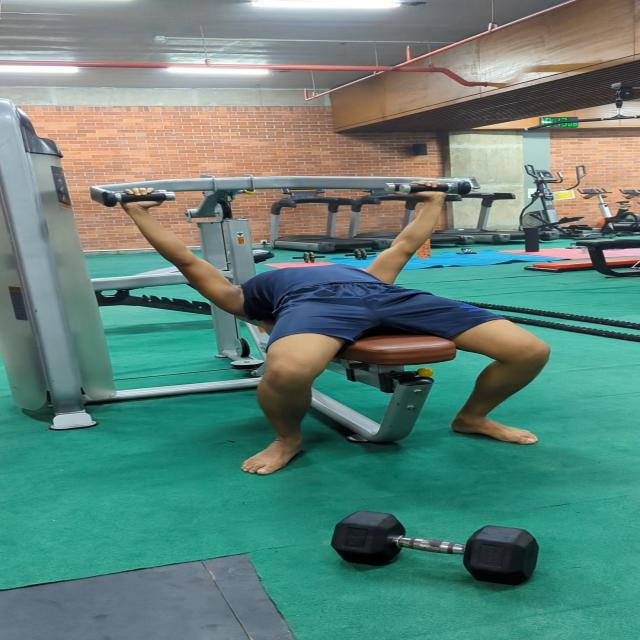Normal_BrenchPress: (109, 176, 565, 486)
